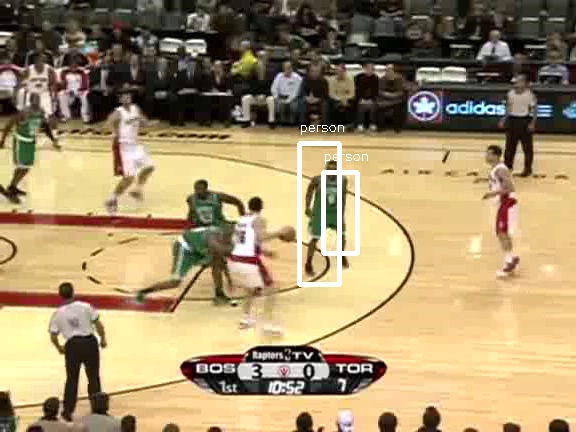person: (314, 167, 348, 248), (313, 167, 347, 248), (315, 167, 349, 248), (314, 166, 348, 247), (314, 168, 348, 249)
target_negative: (22, 204, 426, 388), (155, 54, 447, 261), (305, 105, 453, 361), (2, 363, 128, 405), (14, 203, 358, 212), (520, 323, 524, 387)
